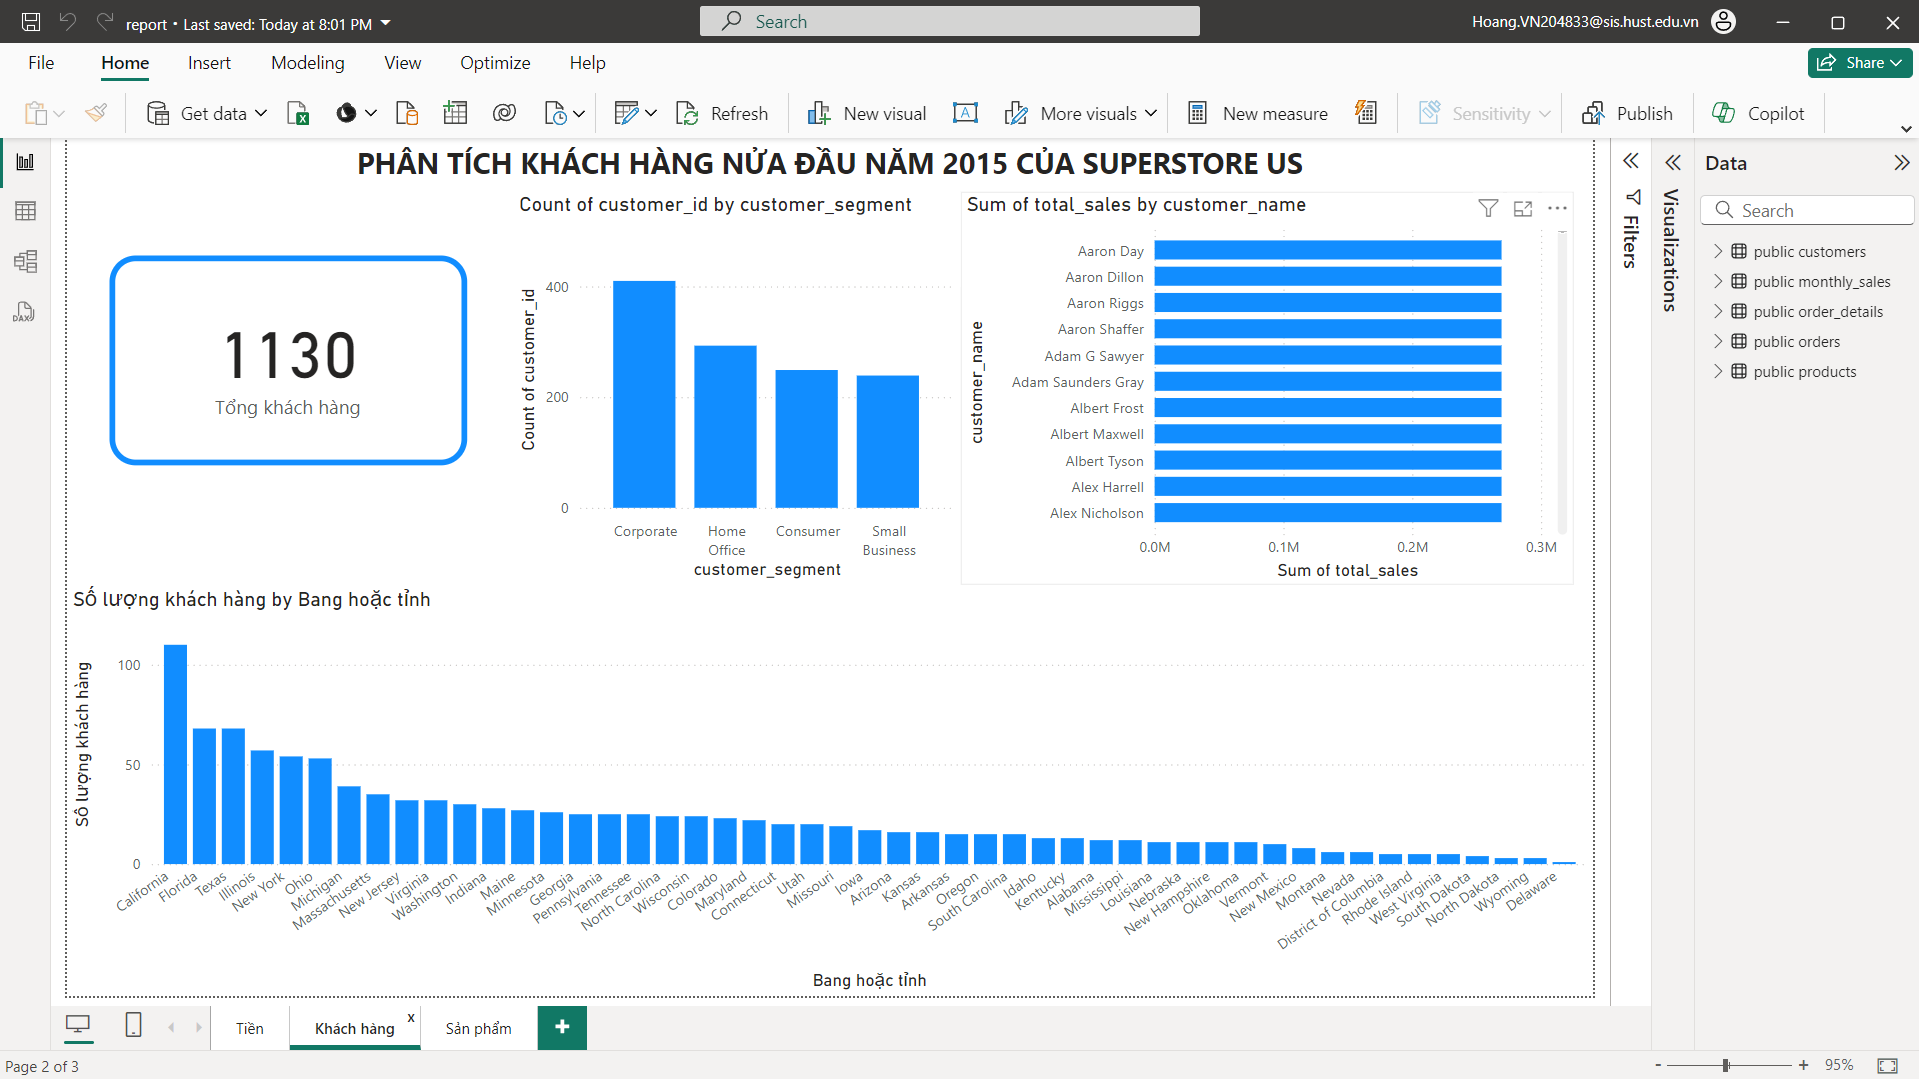

Layout of this report page (visuals, bound fields, positions):
{"tool":"powerbi","page":{"name":"Khách hàng","canvas":[1280,720],"ordinal":1},"visuals":[{"type":"textbox","box":[234.2,0,811.8,44.9],"z":0},{"type":"card","fields":{"Values":["Count(public customers.customer_id)"]},"box":[35.2,98.3,299.7,176],"z":1000},{"type":"columnChart","fields":{"Y":["Count(public customers.customer_id)"],"Category":["public customers.state_or_province"]},"box":[0,375,1280.2,344.6],"z":2000},{"type":"clusteredBarChart","fields":{"Category":["public customers.customer_name"],"Y":["Sum(public orders.total_sales)"]},"box":[749.1,44.7,513.8,330.5],"z":3000},{"type":"columnChart","fields":{"Category":["public customers.customer_segment"],"Y":["Count(public customers.customer_id)"]},"box":[373.8,44.9,375,330.1],"z":4000}]}

Visuals, with their boxes on the page's 1280x720 design canvas (x1, y1, x2, y2). These are canvas units, not pixel positions in the 1919x1079 screenshot, which may show the page scaled, cropped or inside an application window:
textbox: 234:0:1046:45
card - Count(public customers.customer_id): 35:98:335:274
columnChart - Count(public customers.customer_id) x public customers.state_or_province: 0:375:1280:720
clusteredBarChart - public customers.customer_name x Sum(public orders.total_sales): 749:45:1263:375
columnChart - public customers.customer_segment x Count(public customers.customer_id): 374:45:749:375
